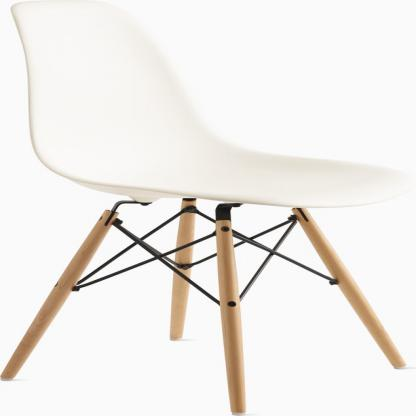chair: (2, 0, 416, 416)
